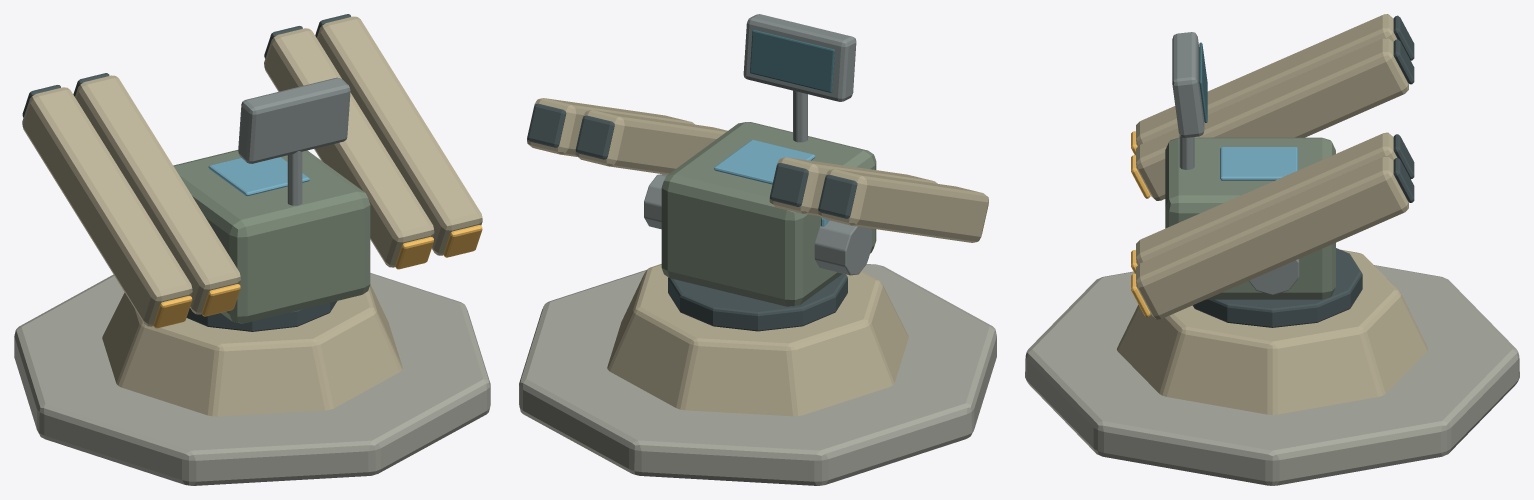
The model's file is aa_turret.glb.
3 views of the same model, side by side, from view 1: azimuth 30°, elevation 25°; view 2: azimuth 150°, elevation 25°; view 3: azimuth 270°, elevation 25° (orthographic).
Parts seen in each view (by area): view 1: body; view 2: body; view 3: body.
Part boxes in pixels (x1,y1,x2,y2): body: (14,14,490,485); body: (519,14,996,485); body: (1025,14,1519,485).
Bounding box in the file's own units: 4.06 × 2.99 × 4.06.
